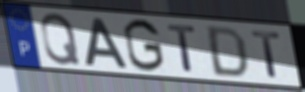A: (83, 16, 129, 69)
D: (205, 24, 249, 79)
G: (122, 17, 167, 74)
Q: (39, 11, 83, 66)
T: (249, 29, 283, 81), (165, 22, 199, 74)
